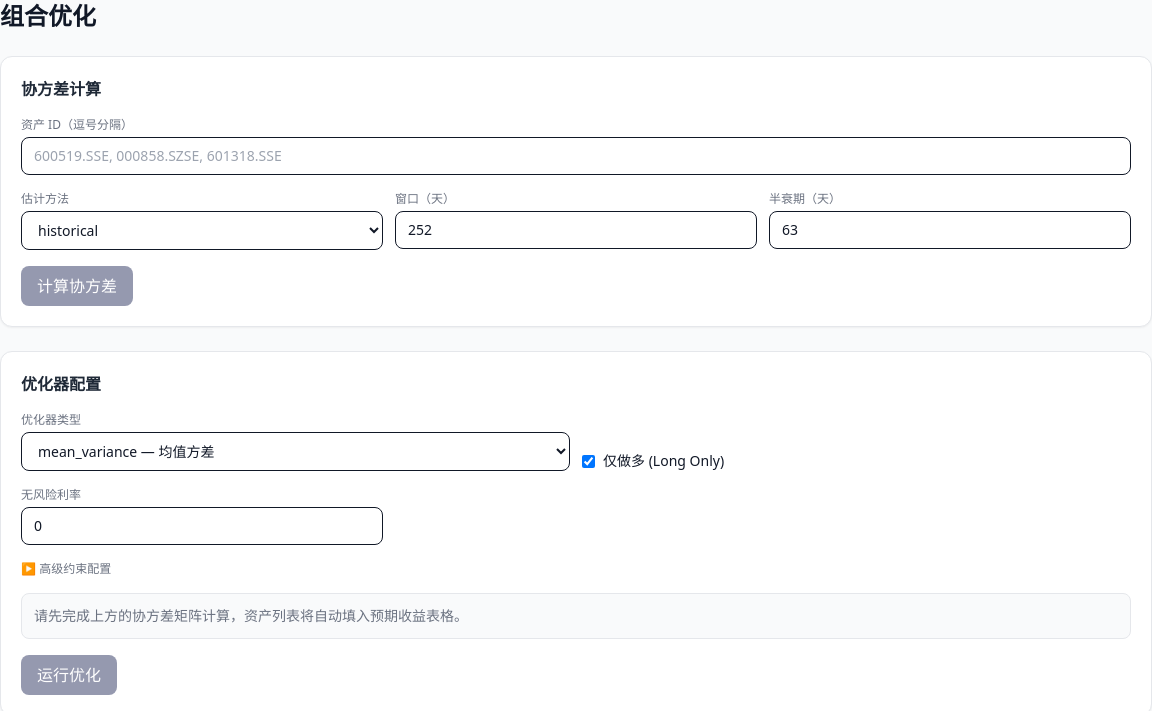
Test: OptimizePage › toggles advanced constraints section
This screenshot has width=1152, height=711.
Expected: the text "最大换手率 (%)" is not shown
Click the button "▶ 高级约束配置" at (66, 569), box top-left (21, 561), bottom-right (111, 577)
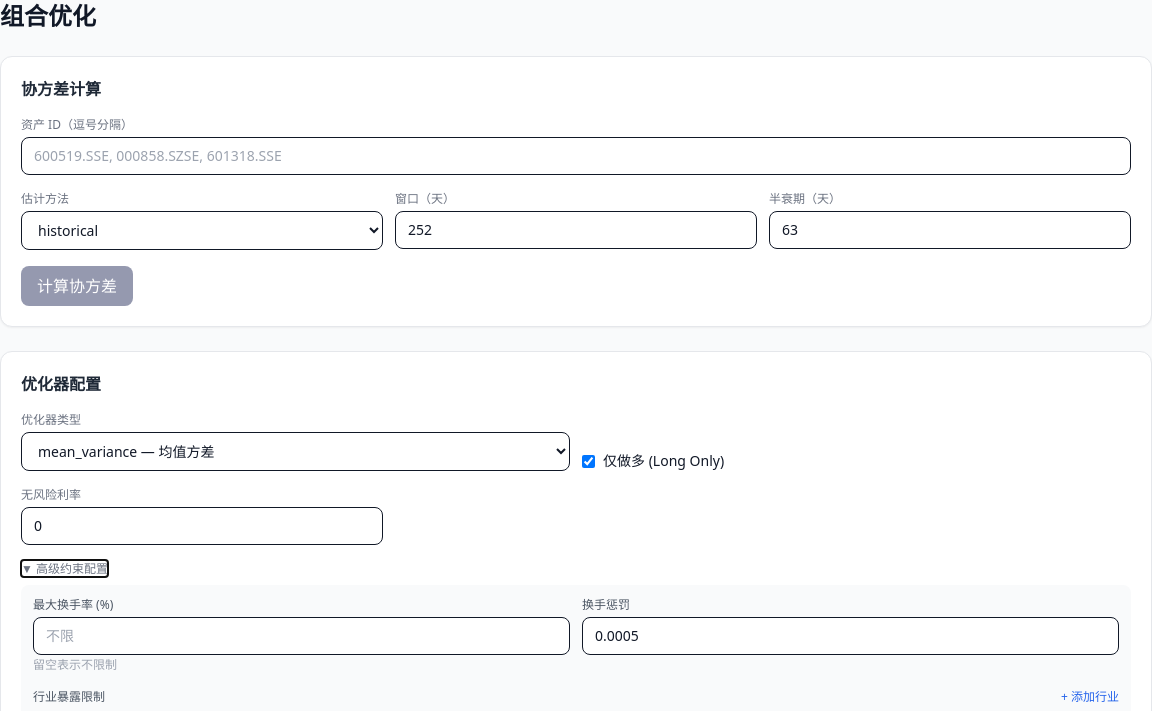
Expected: the text "最大换手率 (%)" is shown, top-left (33, 596), bottom-right (113, 613)
Expected: the text "换手惩罚" is shown, top-left (582, 596), bottom-right (630, 613)
